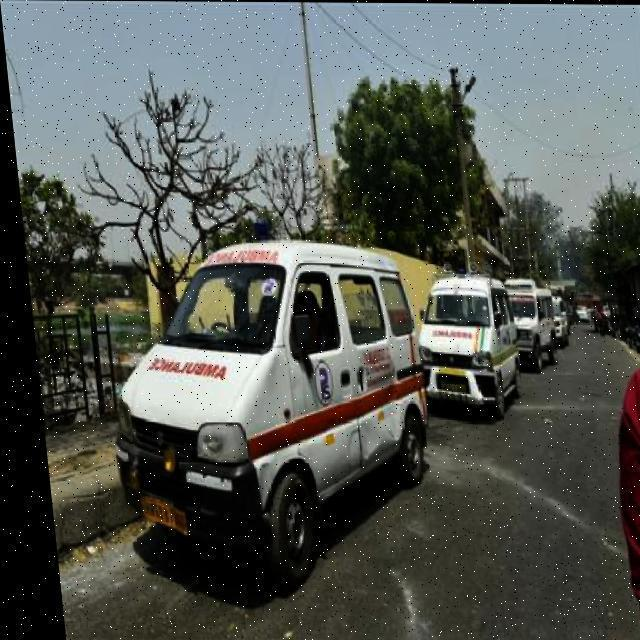Ambulance: (25, 304, 640, 640), (82, 230, 439, 593), (400, 266, 522, 422), (492, 274, 556, 376)
